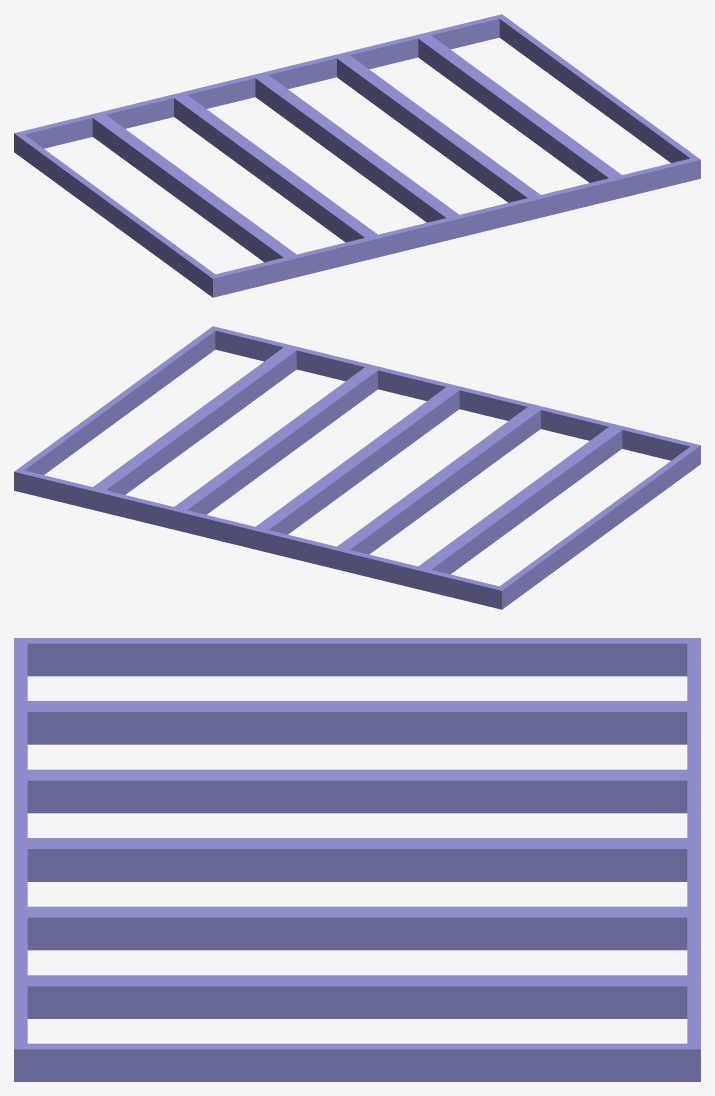
The model's file is aniport_bollbox_lid.obj.
3 renders of one model, top to bottom at view 1: azimuth 30°, elevation 25°; view 2: azimuth 150°, elevation 25°; view 3: azimuth 270°, elevation 25°, orthographic. The views are drawn at different scales.
Parts seen in each view (by area): view 1: Object001; view 2: Object001; view 3: Object001.
Part boxes in pixels (left/top/right/bottom): Object001: left=14, top=14, right=700, bottom=297; Object001: left=14, top=326, right=700, bottom=609; Object001: left=14, top=638, right=700, bottom=1081.
Size of the model in its own units: 1.42 by 0.0527 by 1.
